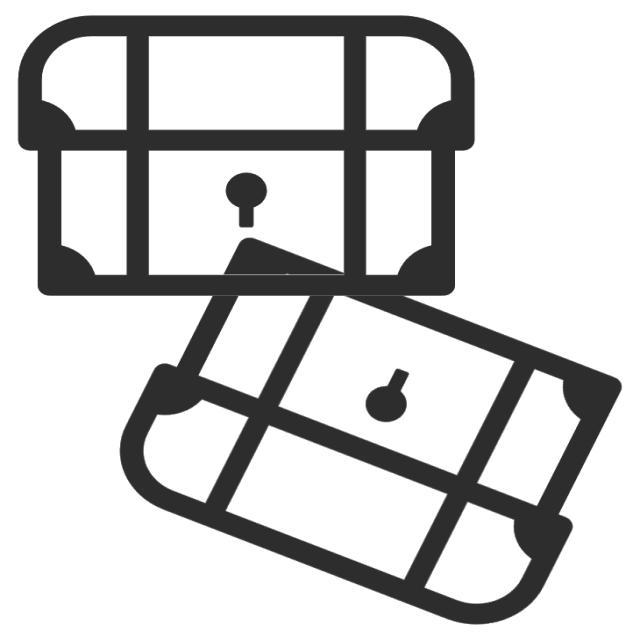treasure_box: (118, 232, 631, 630), (15, 13, 479, 319)
